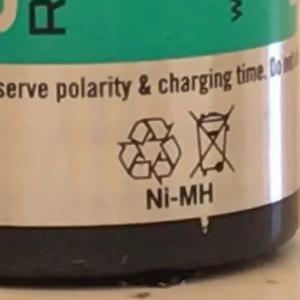NI-MH: (136, 172, 223, 220)
